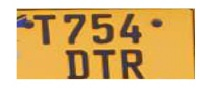T: (32, 12, 60, 47), (91, 46, 118, 81)
